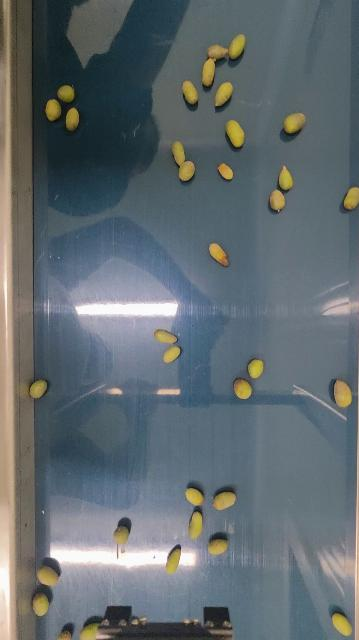Baby Potato: (225, 119, 247, 149), (333, 378, 354, 408), (211, 488, 238, 511), (283, 111, 308, 135), (208, 241, 230, 268), (213, 80, 234, 108), (332, 611, 354, 637), (180, 78, 201, 105), (228, 33, 248, 61), (201, 56, 218, 87), (188, 510, 205, 540), (36, 564, 59, 586), (171, 138, 189, 165), (165, 544, 181, 574), (29, 377, 50, 399), (233, 377, 253, 400), (32, 592, 50, 617), (154, 327, 179, 345), (43, 97, 61, 122), (278, 165, 295, 191), (206, 43, 230, 61), (64, 107, 81, 132), (184, 486, 205, 506), (208, 537, 230, 556), (178, 160, 197, 182), (343, 184, 359, 210), (269, 188, 286, 212), (162, 343, 182, 363), (56, 83, 75, 103), (248, 357, 265, 379), (80, 622, 99, 640), (217, 162, 234, 181), (113, 526, 129, 544), (55, 629, 72, 640)
